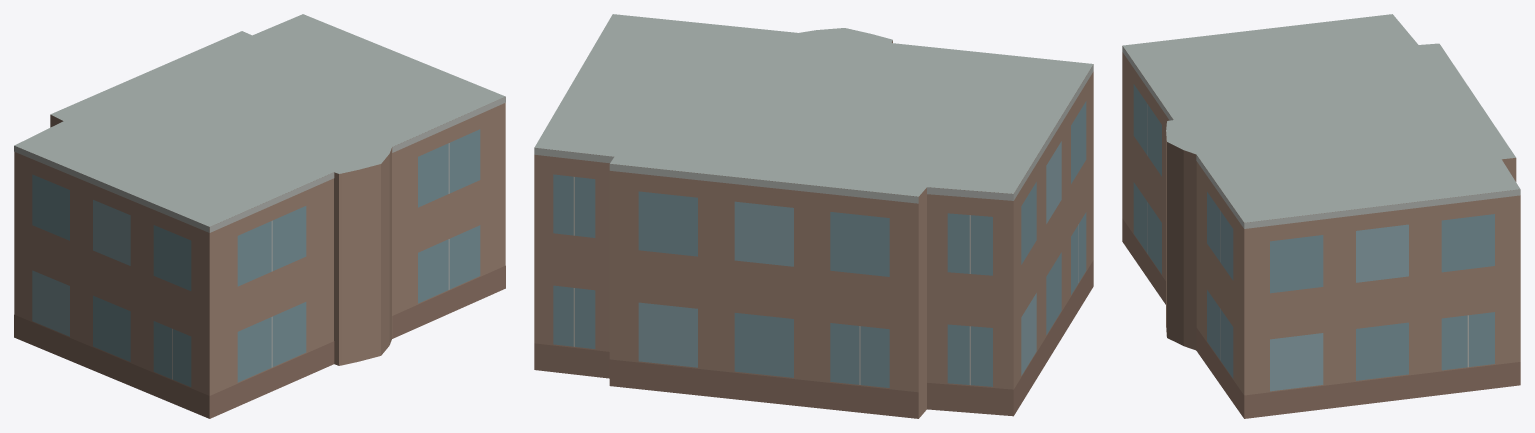
The model's file is survey-upis-32624086.glb.
3 renders of one model, left to right at view 1: azimuth 30°, elevation 25°; view 2: azimuth 150°, elevation 25°; view 3: azimuth 270°, elevation 25°, orthographic. The views are drawn at different scales.
Visible parts, largest first — view 1: survey-upis-32624086.tmp; view 2: survey-upis-32624086.tmp; view 3: survey-upis-32624086.tmp.
Boxes of the visible parts, x1=… form: survey-upis-32624086.tmp: x1=14, y1=14, x2=505, y2=418; survey-upis-32624086.tmp: x1=534, y1=14, x2=1093, y2=418; survey-upis-32624086.tmp: x1=1122, y1=14, x2=1520, y2=418.
Size of the model in its own units: 17.6 by 7.7 by 14.18.
